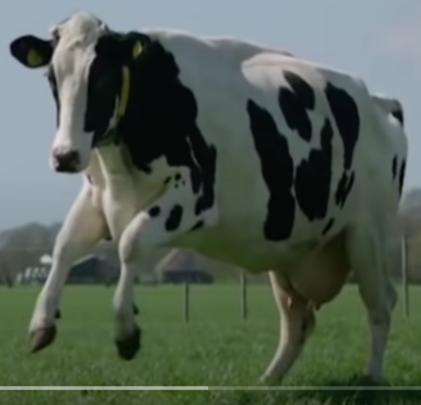cow: (10, 12, 407, 384)
